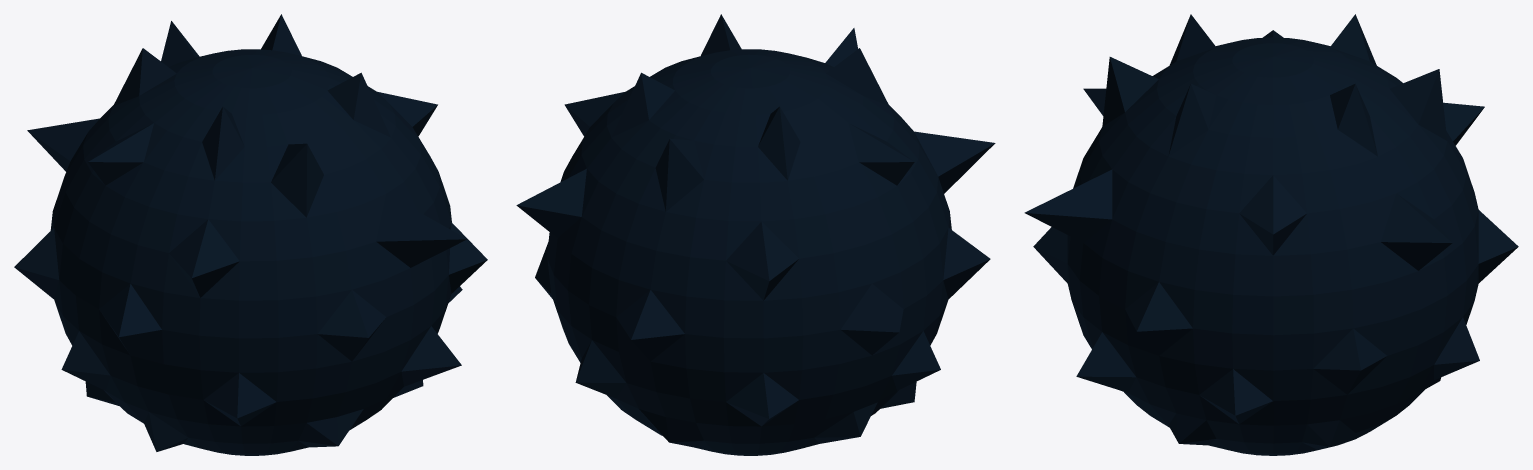
The model's file is TD_ChaserEnemy.obj.
3 views of the same model, side by side, from view 1: azimuth 30°, elevation 25°; view 2: azimuth 150°, elevation 25°; view 3: azimuth 270°, elevation 25° (orthographic). The views are drawn at different scales.
Visible parts, largest first — view 1: 球; view 2: 球; view 3: 球.
Boxes of the visible parts, left/top/right/bottom form: 球: left=14, top=14, right=487, bottom=455; 球: left=516, top=14, right=995, bottom=455; 球: left=1024, top=14, right=1518, bottom=455.
Size of the model in its own units: 2.19 by 2.04 by 2.36.
